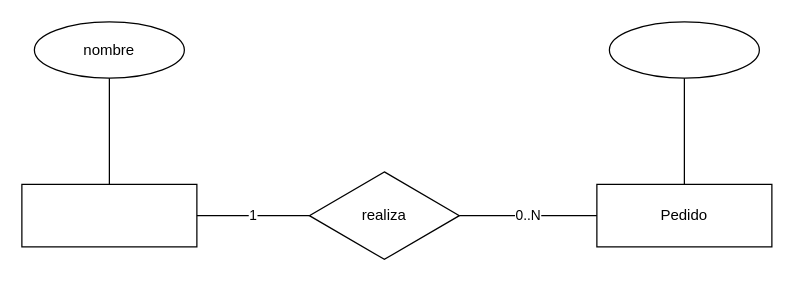
Some shapes in this 794 by 281 pixel diagram are drawn without their labels. The centre of each missing label's shape, as x and y in pixels:
Cliente: (109,215)
id_pedido: (683,49)
